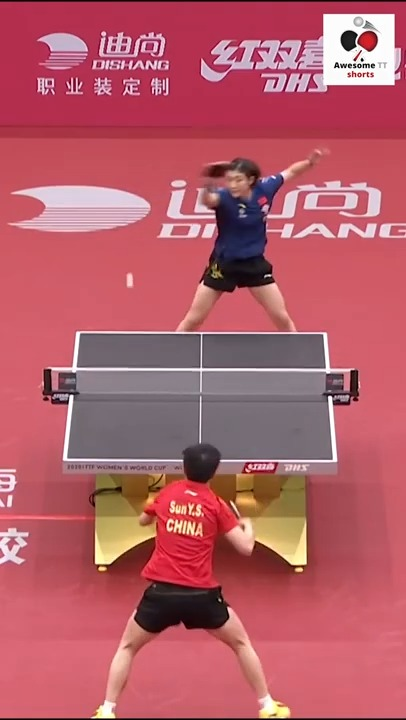Ball: (126, 273, 133, 290)
